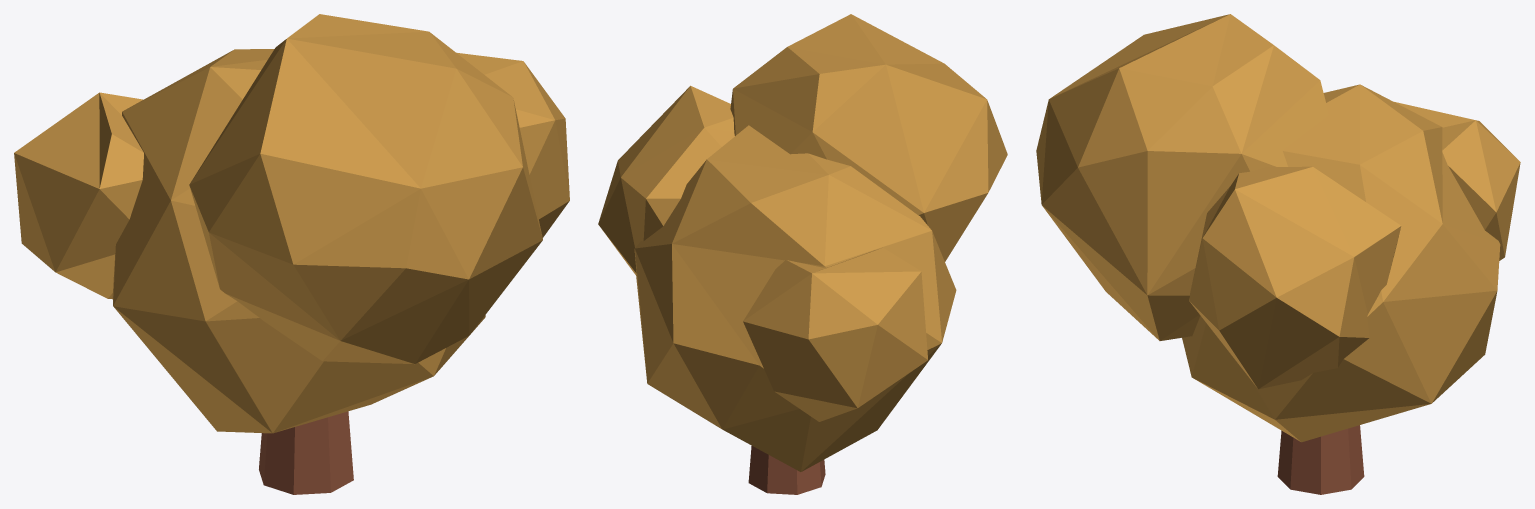
The model's file is bush2.gltf.
The picture shows the model from 3 angles, left to right: view 1: azimuth 30°, elevation 25°; view 2: azimuth 150°, elevation 25°; view 3: azimuth 270°, elevation 25°; orthographic projection. The views are drawn at different scales.
Visible parts, largest first — view 1: bush_5_autumn_mat; view 2: bush_5_autumn_mat; view 3: bush_5_autumn_mat.
Boxes of the visible parts, box(x1,y1,x2,y2) form: bush_5_autumn_mat: box(14, 14, 569, 494); bush_5_autumn_mat: box(598, 14, 1007, 494); bush_5_autumn_mat: box(1036, 14, 1520, 494).
Size of the model in its own units: 1.25 by 1.32 by 1.34.
